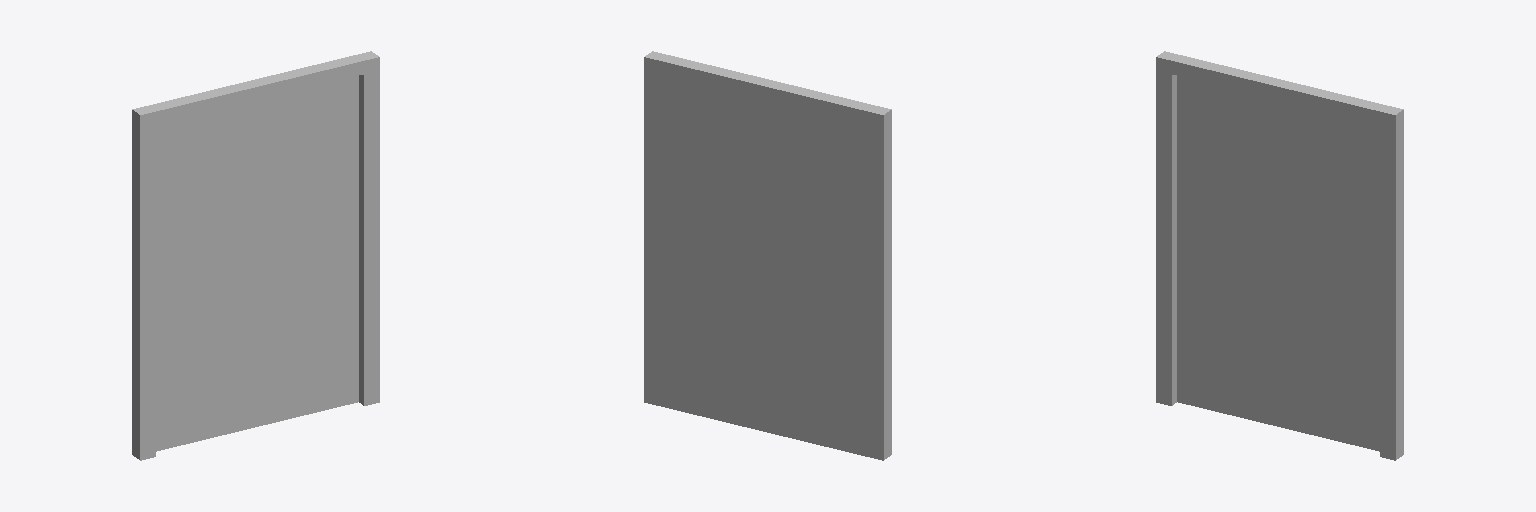
Rendered from door_001.obj.
3 renders of one model, left to right at view 1: azimuth 30°, elevation 25°; view 2: azimuth 150°, elevation 25°; view 3: azimuth 330°, elevation 25°, orthographic.
Parts seen in each view (by area): view 1: door_001_Plane.019; view 2: door_001_Plane.019; view 3: door_001_Plane.019.
Part boxes in pixels (bbox=[...]): door_001_Plane.019: bbox=[132, 51, 379, 460]; door_001_Plane.019: bbox=[644, 51, 891, 460]; door_001_Plane.019: bbox=[1156, 51, 1403, 460].
Bounding box in the file's own units: 1.68 × 2.32 × 0.099.